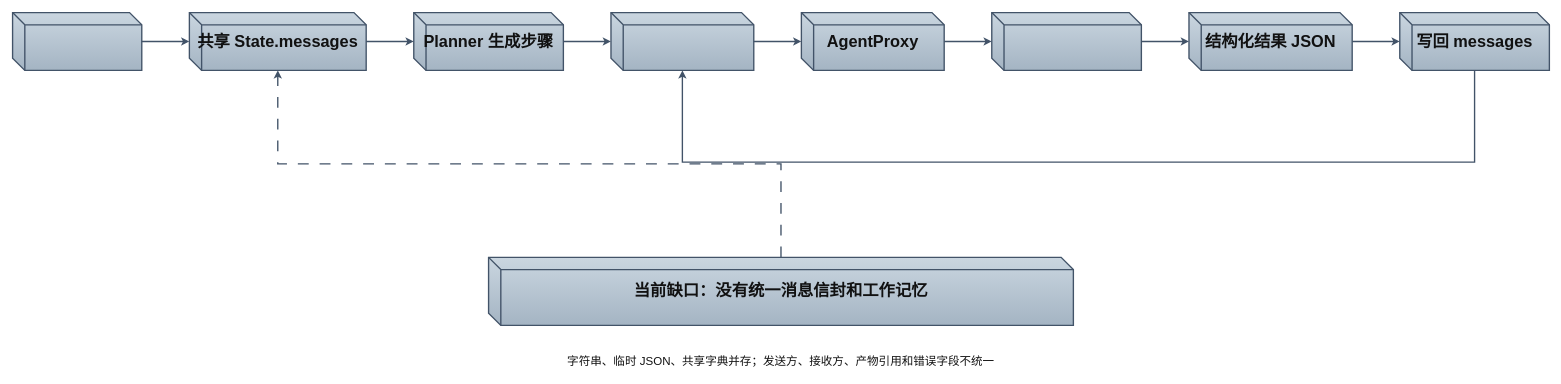
Some shapes in this 1561 by 384 pixel diagram are drawn without their labels. The centre of each missing label's shape, as x and y in pixels:
Publisher 选择 Agent: pixel 682 41
执行 Agent / Tool: pixel 1066 41
用户消息: pixel 77 41
